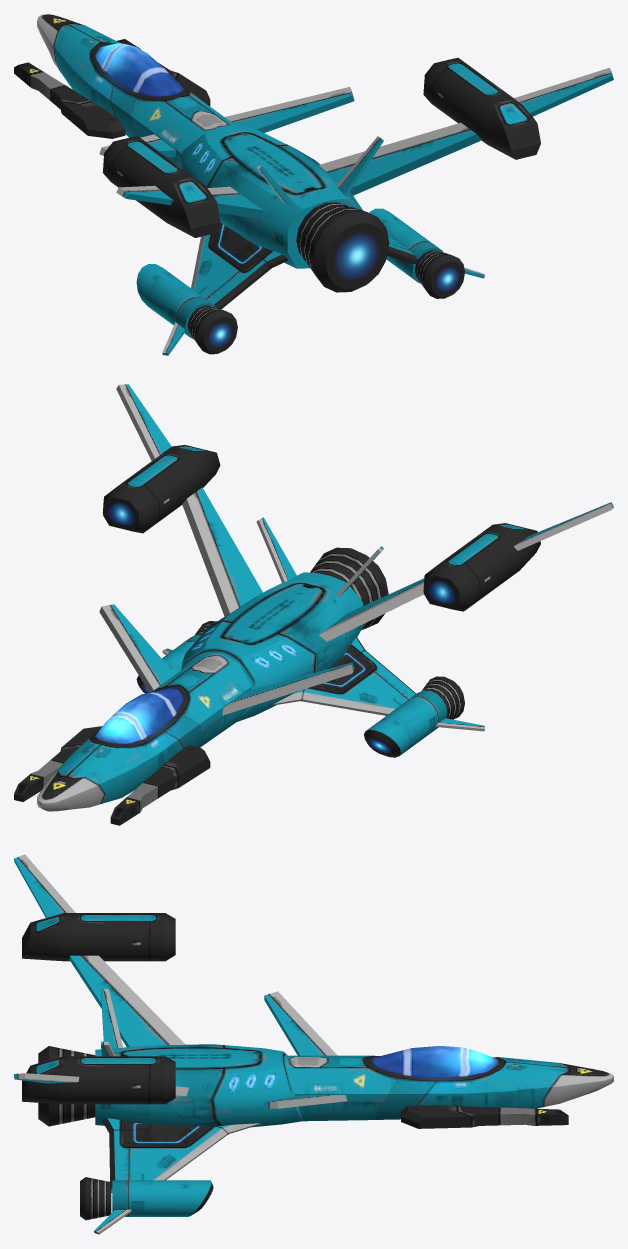
Rendered from scout8.gltf.
3 renders of one model, top to bottom at view 1: azimuth 30°, elevation 25°; view 2: azimuth 150°, elevation 25°; view 3: azimuth 270°, elevation 25°, orthographic. The views are drawn at different scales.
Visible parts, largest first — view 1: scout8; view 2: scout8; view 3: scout8.
Part boxes in pixels (x1,y1,x2,y2): scout8: [14, 14, 613, 355]; scout8: [14, 384, 613, 825]; scout8: [14, 854, 613, 1234].
Bounding box in the file's own units: 9.87 × 4.24 × 11.31.
1 material, 1 textured.
